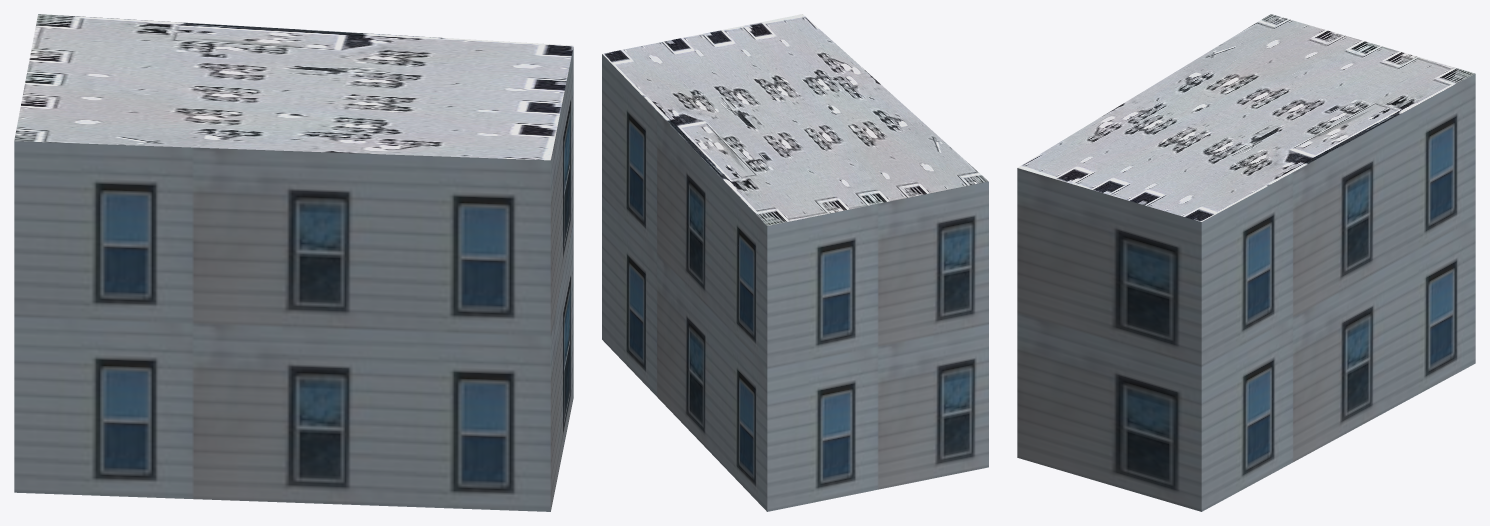
The model's file is ResTex__1113.fbx.
3 renders of one model, left to right at view 1: azimuth 30°, elevation 25°; view 2: azimuth 150°, elevation 25°; view 3: azimuth 270°, elevation 25°, orthographic. The views are drawn at different scales.
Visible parts, largest first — view 1: CityEngineMaterial_18_m, CityEngineMaterial_2_m; view 2: CityEngineMaterial_18_m, CityEngineMaterial_2_m; view 3: CityEngineMaterial_18_m, CityEngineMaterial_2_m.
Part boxes in pixels (bbox=[...]): CityEngineMaterial_18_m: bbox=[14, 47, 573, 511]; CityEngineMaterial_2_m: bbox=[14, 14, 573, 160]; CityEngineMaterial_18_m: bbox=[602, 54, 988, 511]; CityEngineMaterial_2_m: bbox=[602, 14, 988, 225]; CityEngineMaterial_18_m: bbox=[1017, 74, 1475, 511]; CityEngineMaterial_2_m: bbox=[1017, 14, 1475, 221].
Size of the model in its own units: 9.24 by 6 by 8.61.
Materials: 2 (2 with a texture image).
